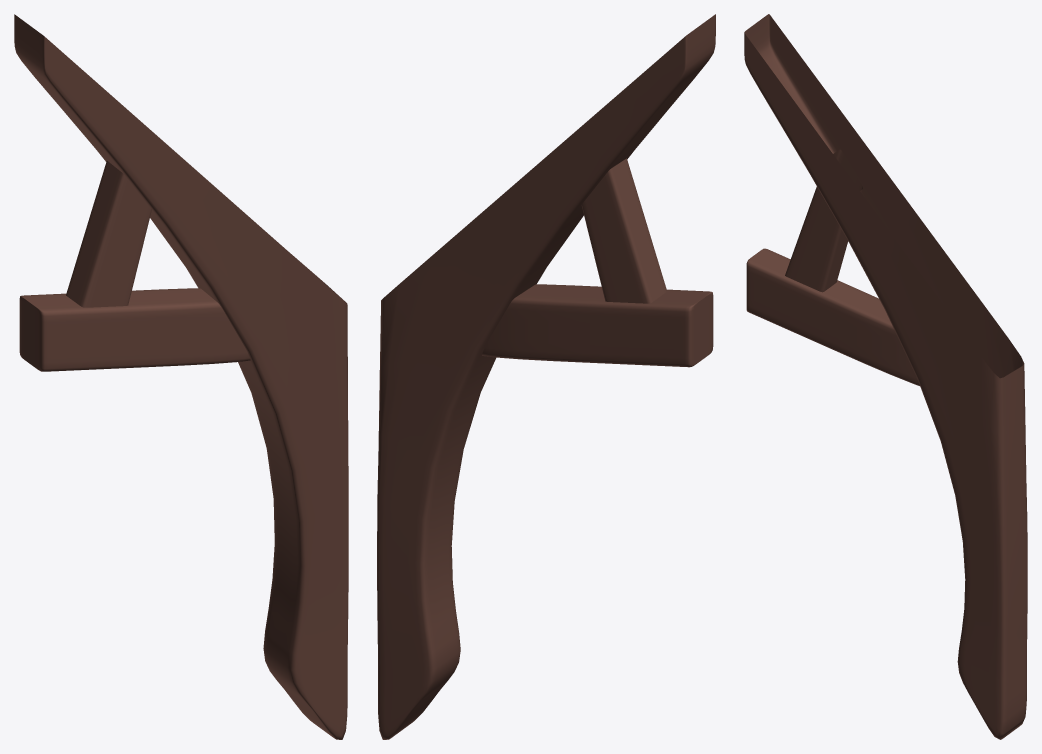
Rendered from WoodenSlopedCeilingSupport.fbx.
The picture shows the model from 3 angles, left to right: view 1: azimuth 30°, elevation 25°; view 2: azimuth 150°, elevation 25°; view 3: azimuth 330°, elevation 25°; orthographic projection. The views are drawn at different scales.
Parts seen in each view (by area): view 1: Cube.074; view 2: Cube.074; view 3: Cube.074.
Boxes of the visible parts, x1=… form: Cube.074: x1=14, y1=14, x2=348, y2=739; Cube.074: x1=377, y1=14, x2=715, y2=739; Cube.074: x1=744, y1=14, x2=1027, y2=739.
Size of the model in its own units: 216 by 40.92 by 520.
